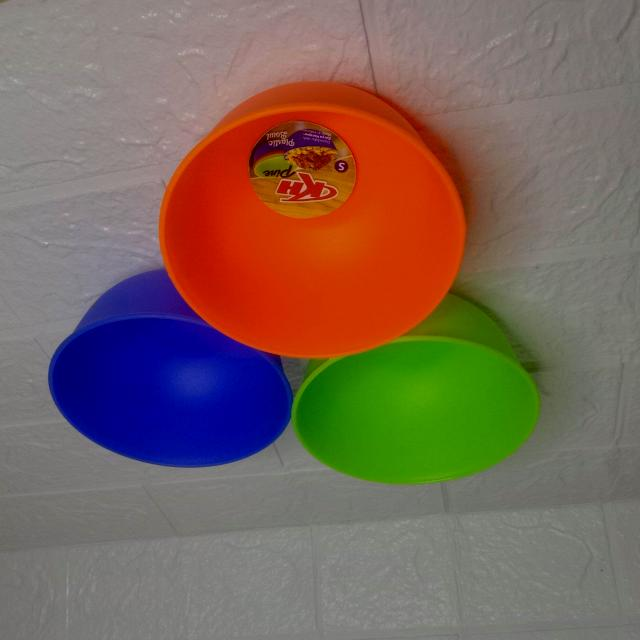Mangkok: (139, 72, 482, 366), (27, 265, 301, 485), (288, 278, 539, 500)
